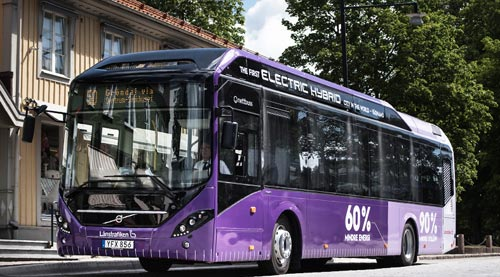bus: (58, 46, 458, 276)
